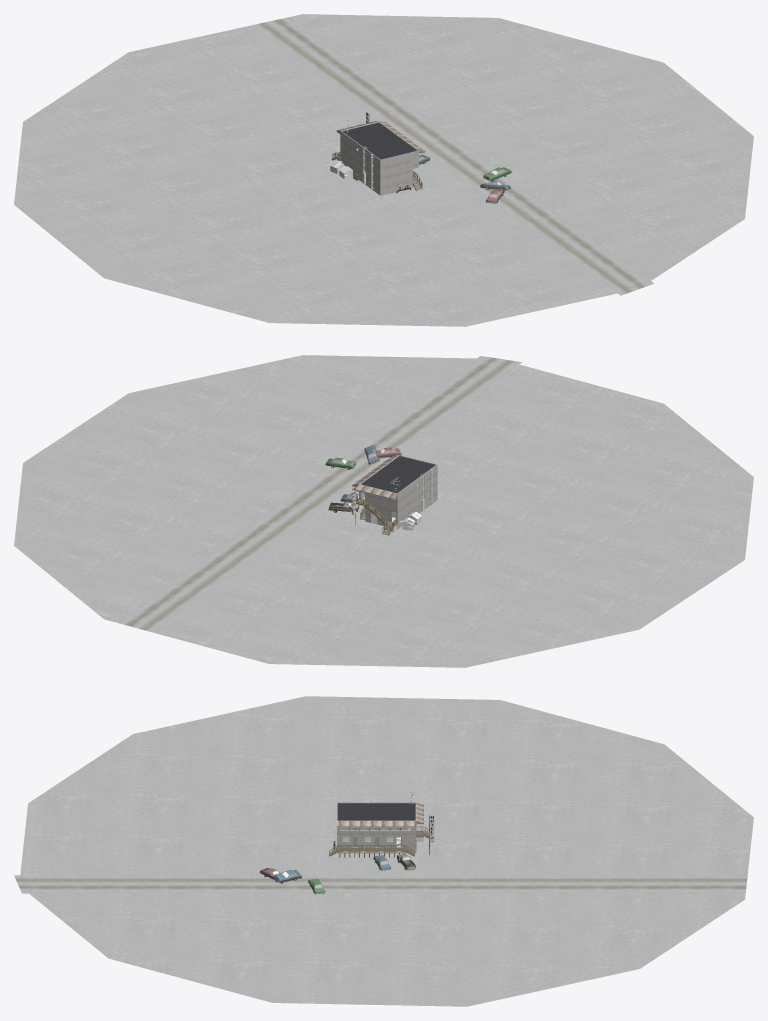
File: MotelProjet.glb
3 renders of one model, top to bottom at view 1: azimuth 30°, elevation 25°; view 2: azimuth 150°, elevation 25°; view 3: azimuth 270°, elevation 25°, orthographic.
Visible parts, largest first — view 1: Ground, GroundTracks, ExteriorWall; view 2: Ground, GroundTracks, ExteriorWall; view 3: Ground, GroundTracks, ExteriorWall, ExteriorWallSecondFloor, AwningLarge.
Boxes of the visible parts, <box> form: Ground: <box>14,14,753,326</box>; GroundTracks: <box>251,17,653,295</box>; ExteriorWall: <box>340,121,418,191</box>; Ground: <box>14,355,753,667</box>; GroundTracks: <box>116,356,521,632</box>; ExteriorWall: <box>356,455,437,525</box>; Ground: <box>20,696,753,1006</box>; GroundTracks: <box>14,875,747,893</box>; ExteriorWall: <box>337,802,423,849</box>; ExteriorWallSecondFloor: <box>337,827,416,836</box>; AwningLarge: <box>336,821,416,827</box>.
Bounding box in the file's own units: 136 × 11.75 × 136.
Materials: 64 (19 with a texture image).
